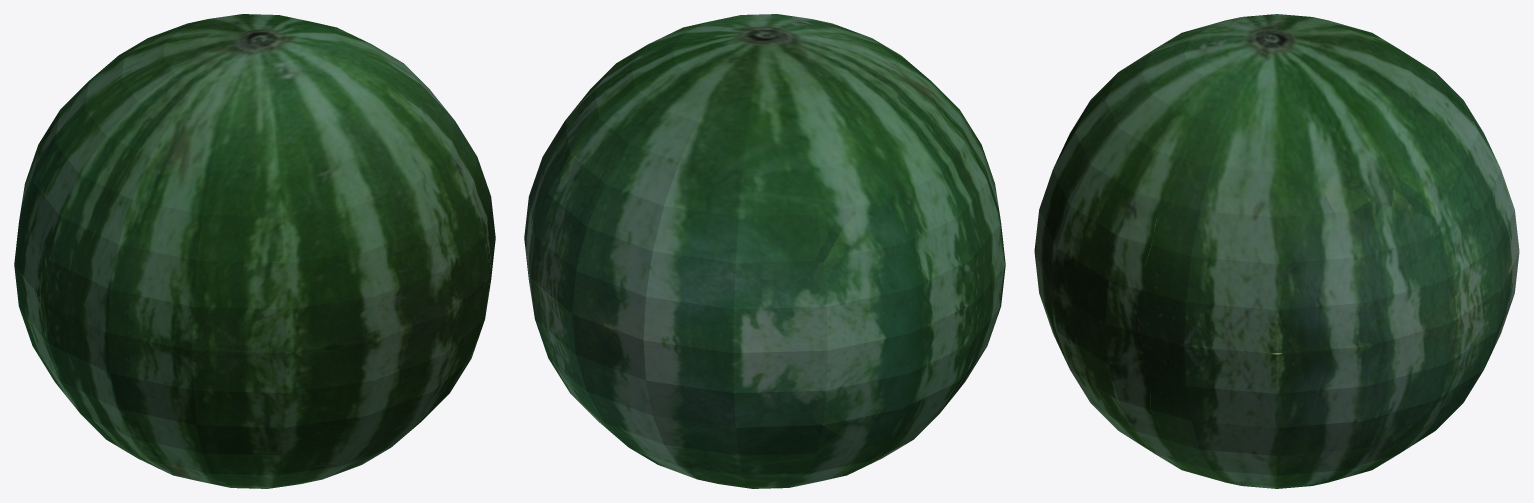
The model's file is watermelon.fbx.
3 views of the same model, side by side, from view 1: azimuth 30°, elevation 25°; view 2: azimuth 150°, elevation 25°; view 3: azimuth 270°, elevation 25° (orthographic).
Visible parts, largest first — view 1: watermelon.005, watermelon.007, watermelon.006, watermelon.001, watermelon.004, watermelon.003; view 2: watermelon.004, watermelon.007, watermelon.001, watermelon.002, watermelon.006, watermelon.003; view 3: watermelon.003, watermelon.004, watermelon.006, watermelon.005, watermelon.002, watermelon.007.
Boxes of the visible parts, x1=… form: watermelon.005: x1=192, y1=154, x2=489, y2=475; watermelon.007: x1=14, y1=41, x2=250, y2=425; watermelon.006: x1=202, y1=32, x2=454, y2=216; watermelon.001: x1=33, y1=347, x2=389, y2=488; watermelon.004: x1=19, y1=14, x2=370, y2=221; watermelon.003: x1=450, y1=121, x2=495, y2=316; watermelon.004: x1=529, y1=32, x2=909, y2=309; watermelon.007: x1=778, y1=36, x2=1005, y2=408; watermelon.001: x1=733, y1=289, x2=986, y2=488; watermelon.002: x1=530, y1=236, x2=751, y2=488; watermelon.006: x1=649, y1=14, x2=930, y2=80; watermelon.003: x1=524, y1=197, x2=534, y2=316; watermelon.003: x1=1105, y1=192, x2=1448, y2=488; watermelon.004: x1=1277, y1=17, x2=1514, y2=309; watermelon.006: x1=1075, y1=25, x2=1289, y2=217; watermelon.005: x1=1034, y1=101, x2=1154, y2=453; watermelon.002: x1=1399, y1=210, x2=1519, y2=453; watermelon.007: x1=1185, y1=14, x2=1311, y2=33.
Bounding box in the file's own units: 1.6 × 1.54 × 1.6.
